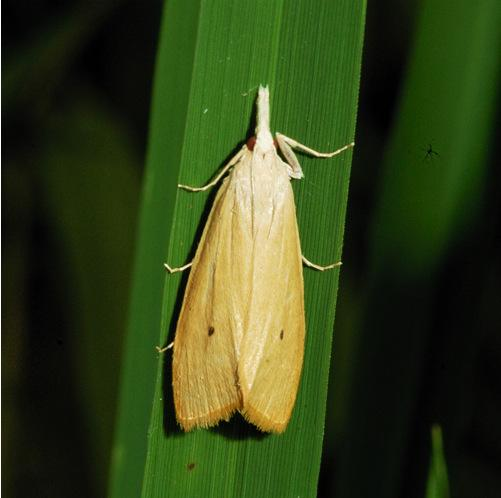Crambidae: (157, 84, 356, 438)
